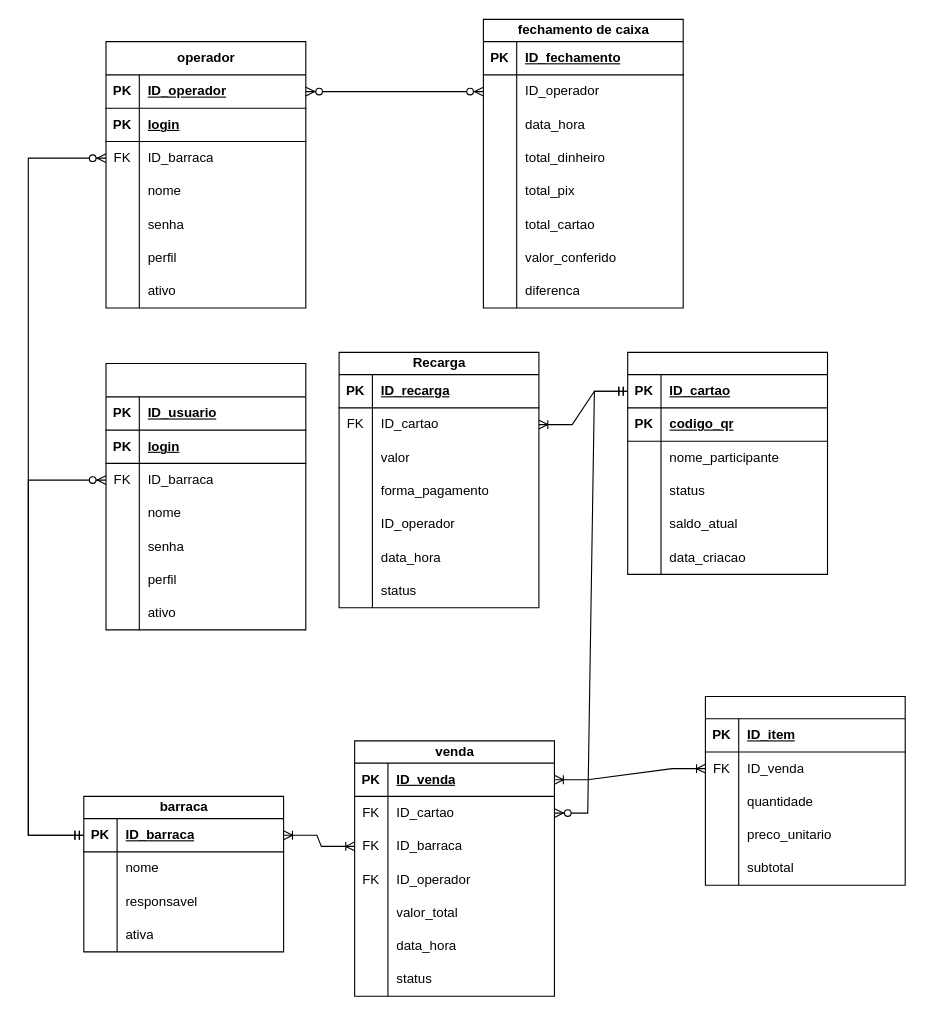
This 925x1016 diagram has some shape labels left out. The shapes that lost their labels are listed below. From the top down, each one's box as (x1, y1, x2, y2) in pixels, then its label:
(627, 351, 828, 574): Cartão
(105, 362, 306, 630): Usuário
(704, 695, 905, 885): itens de venda
